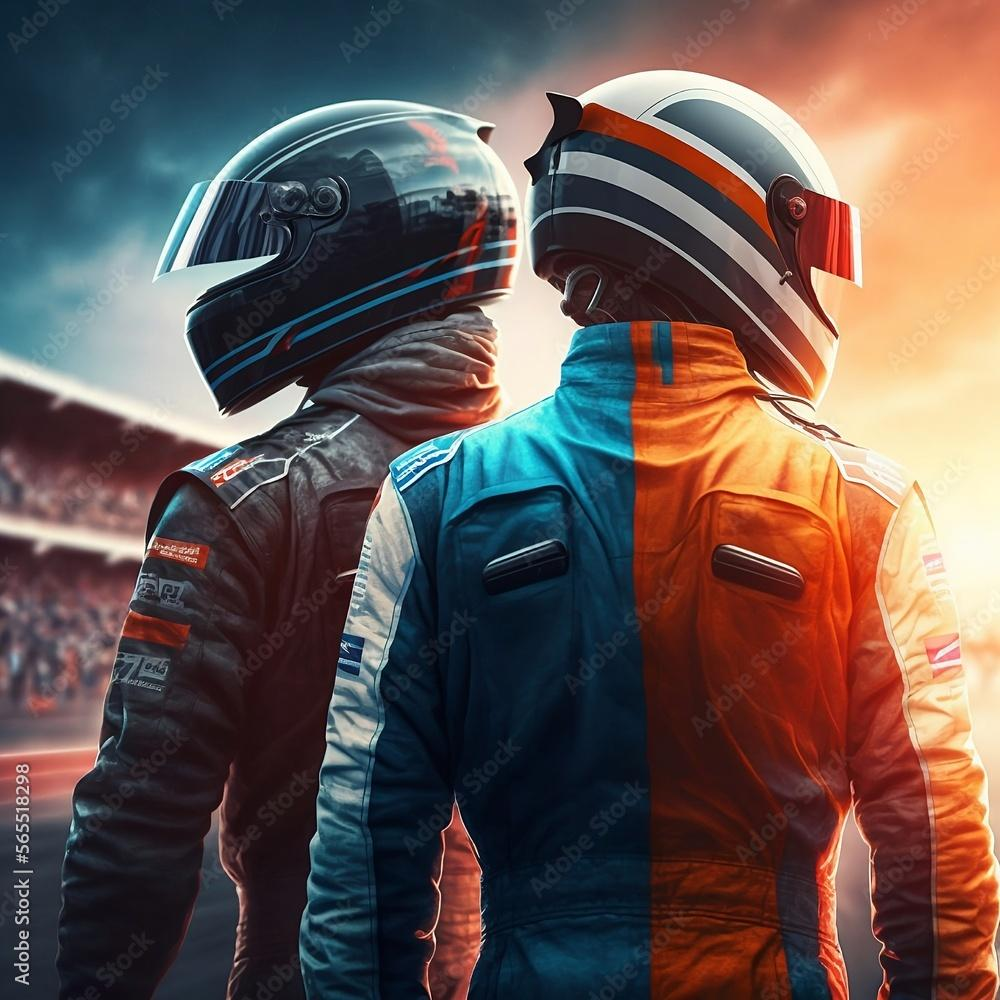helmet: (151, 98, 525, 420), (524, 68, 865, 415)
